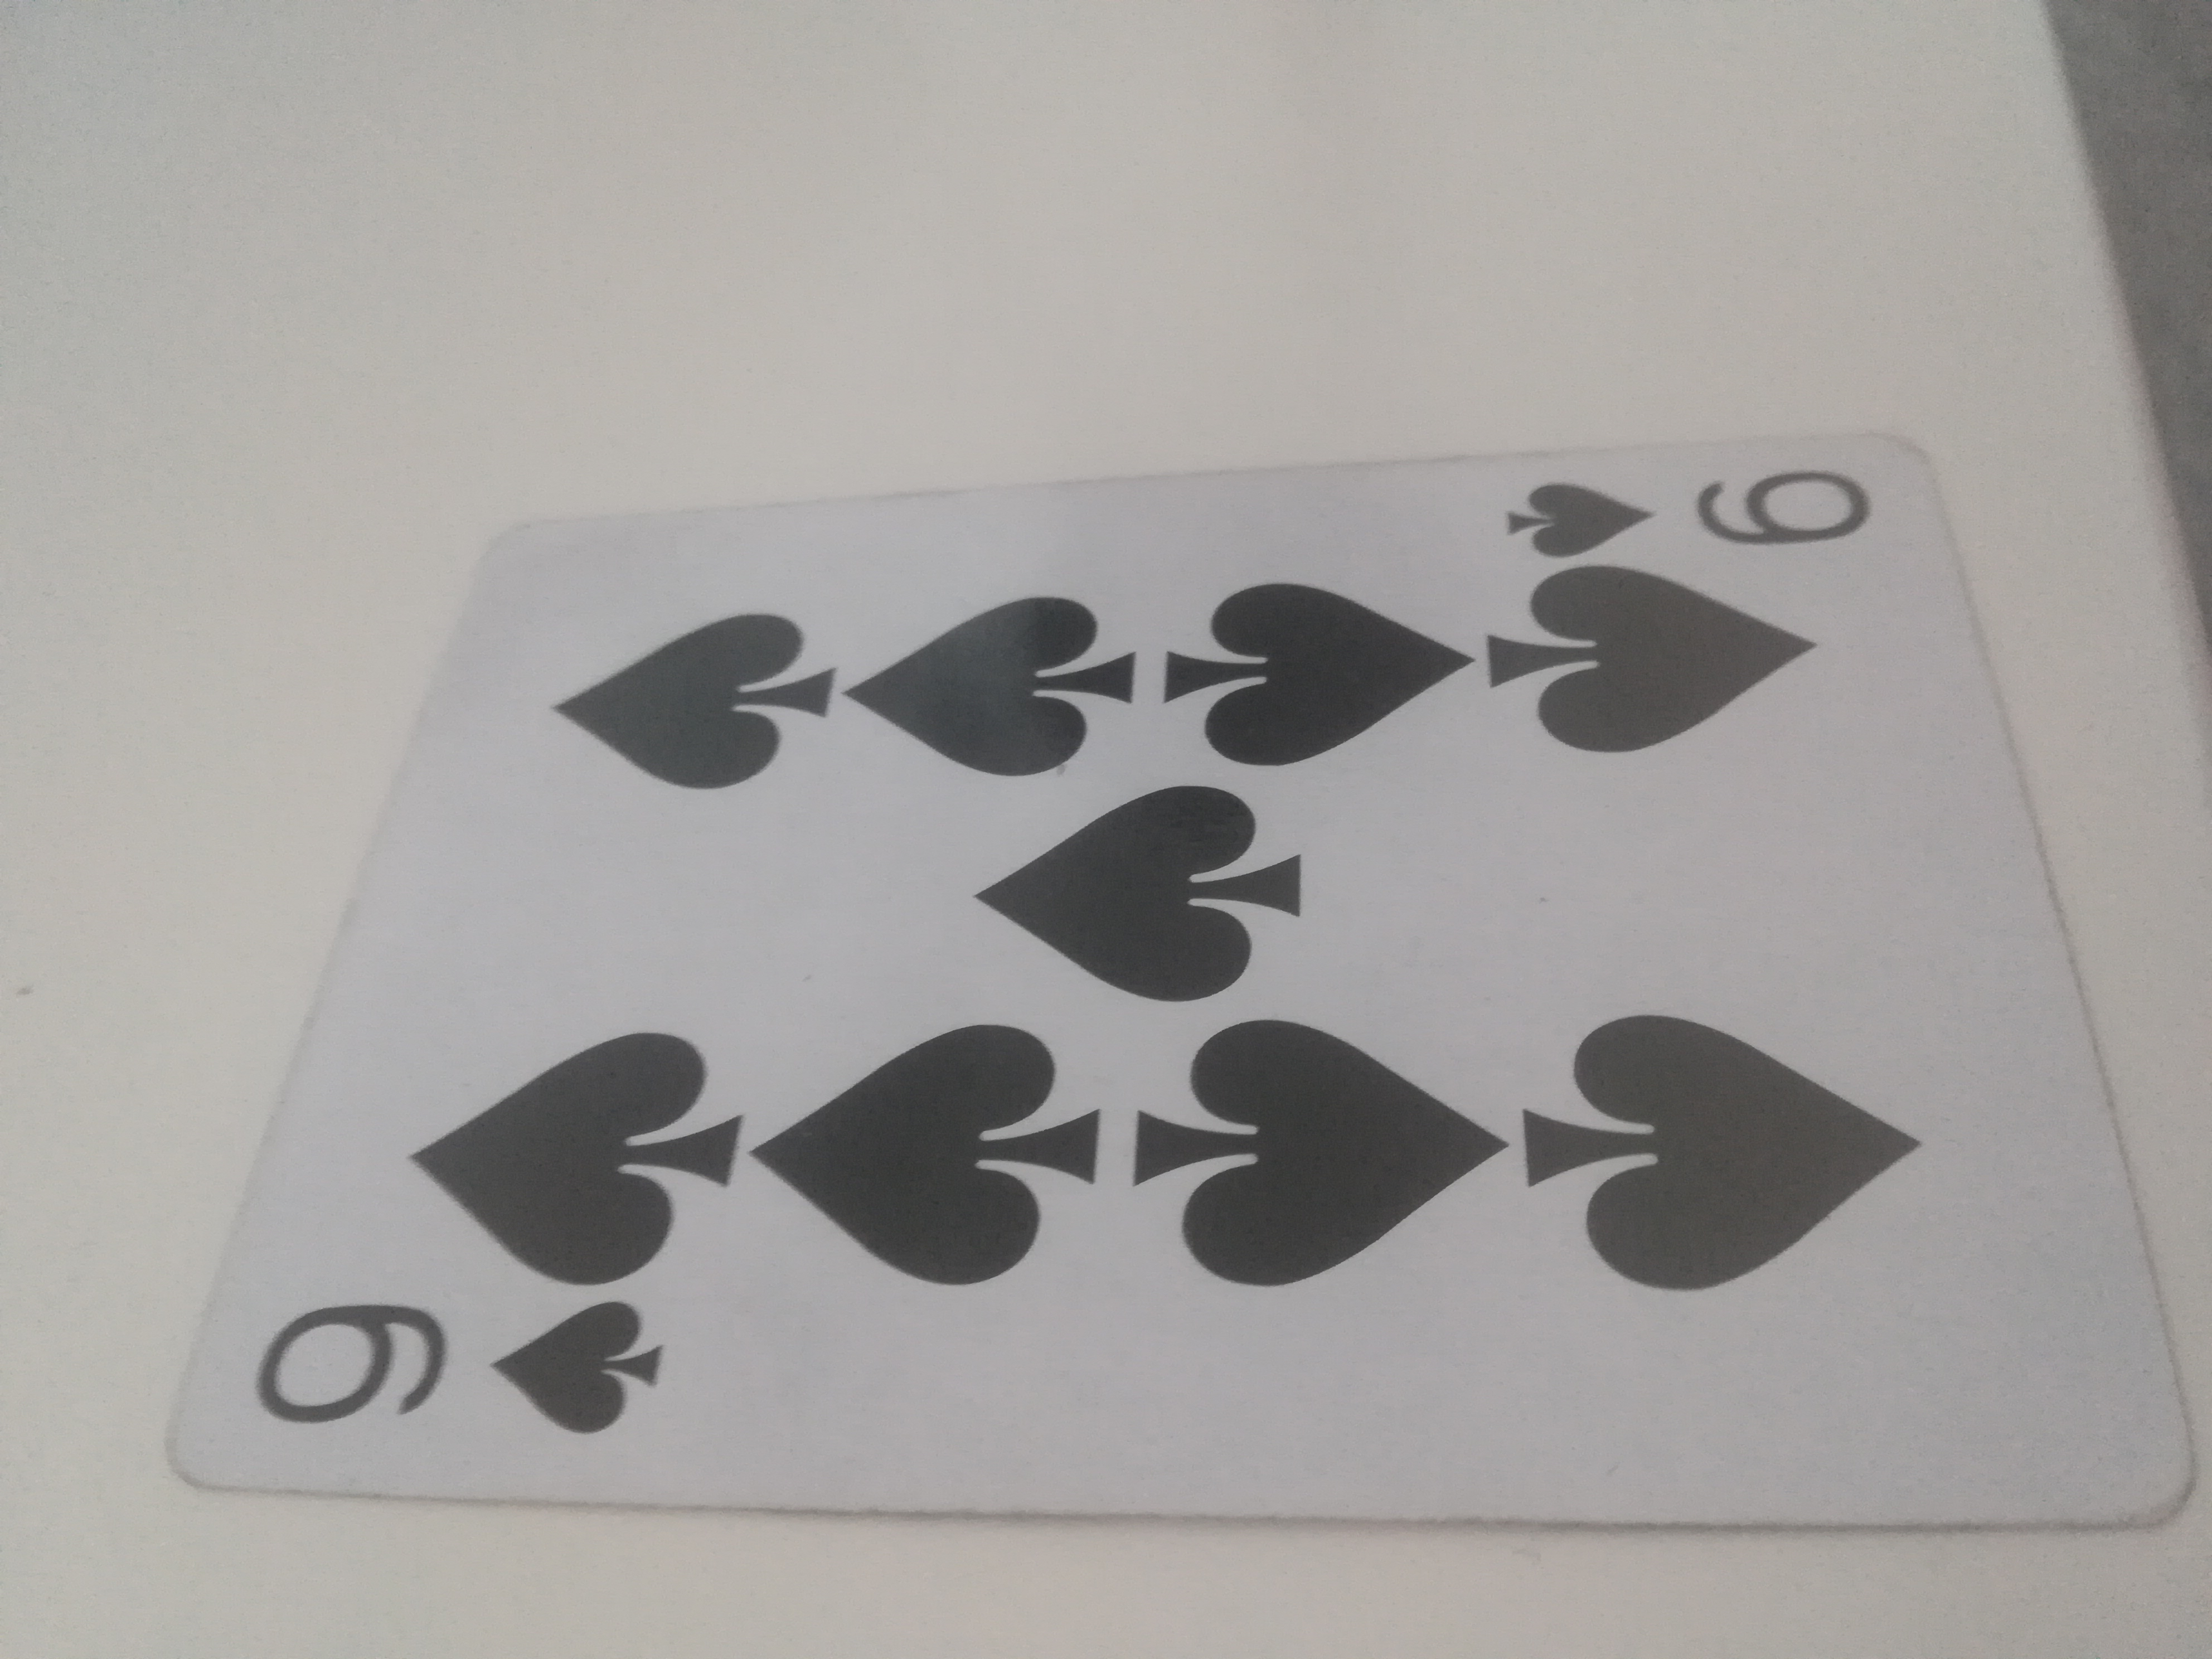9S: (171, 420, 2167, 1530)
